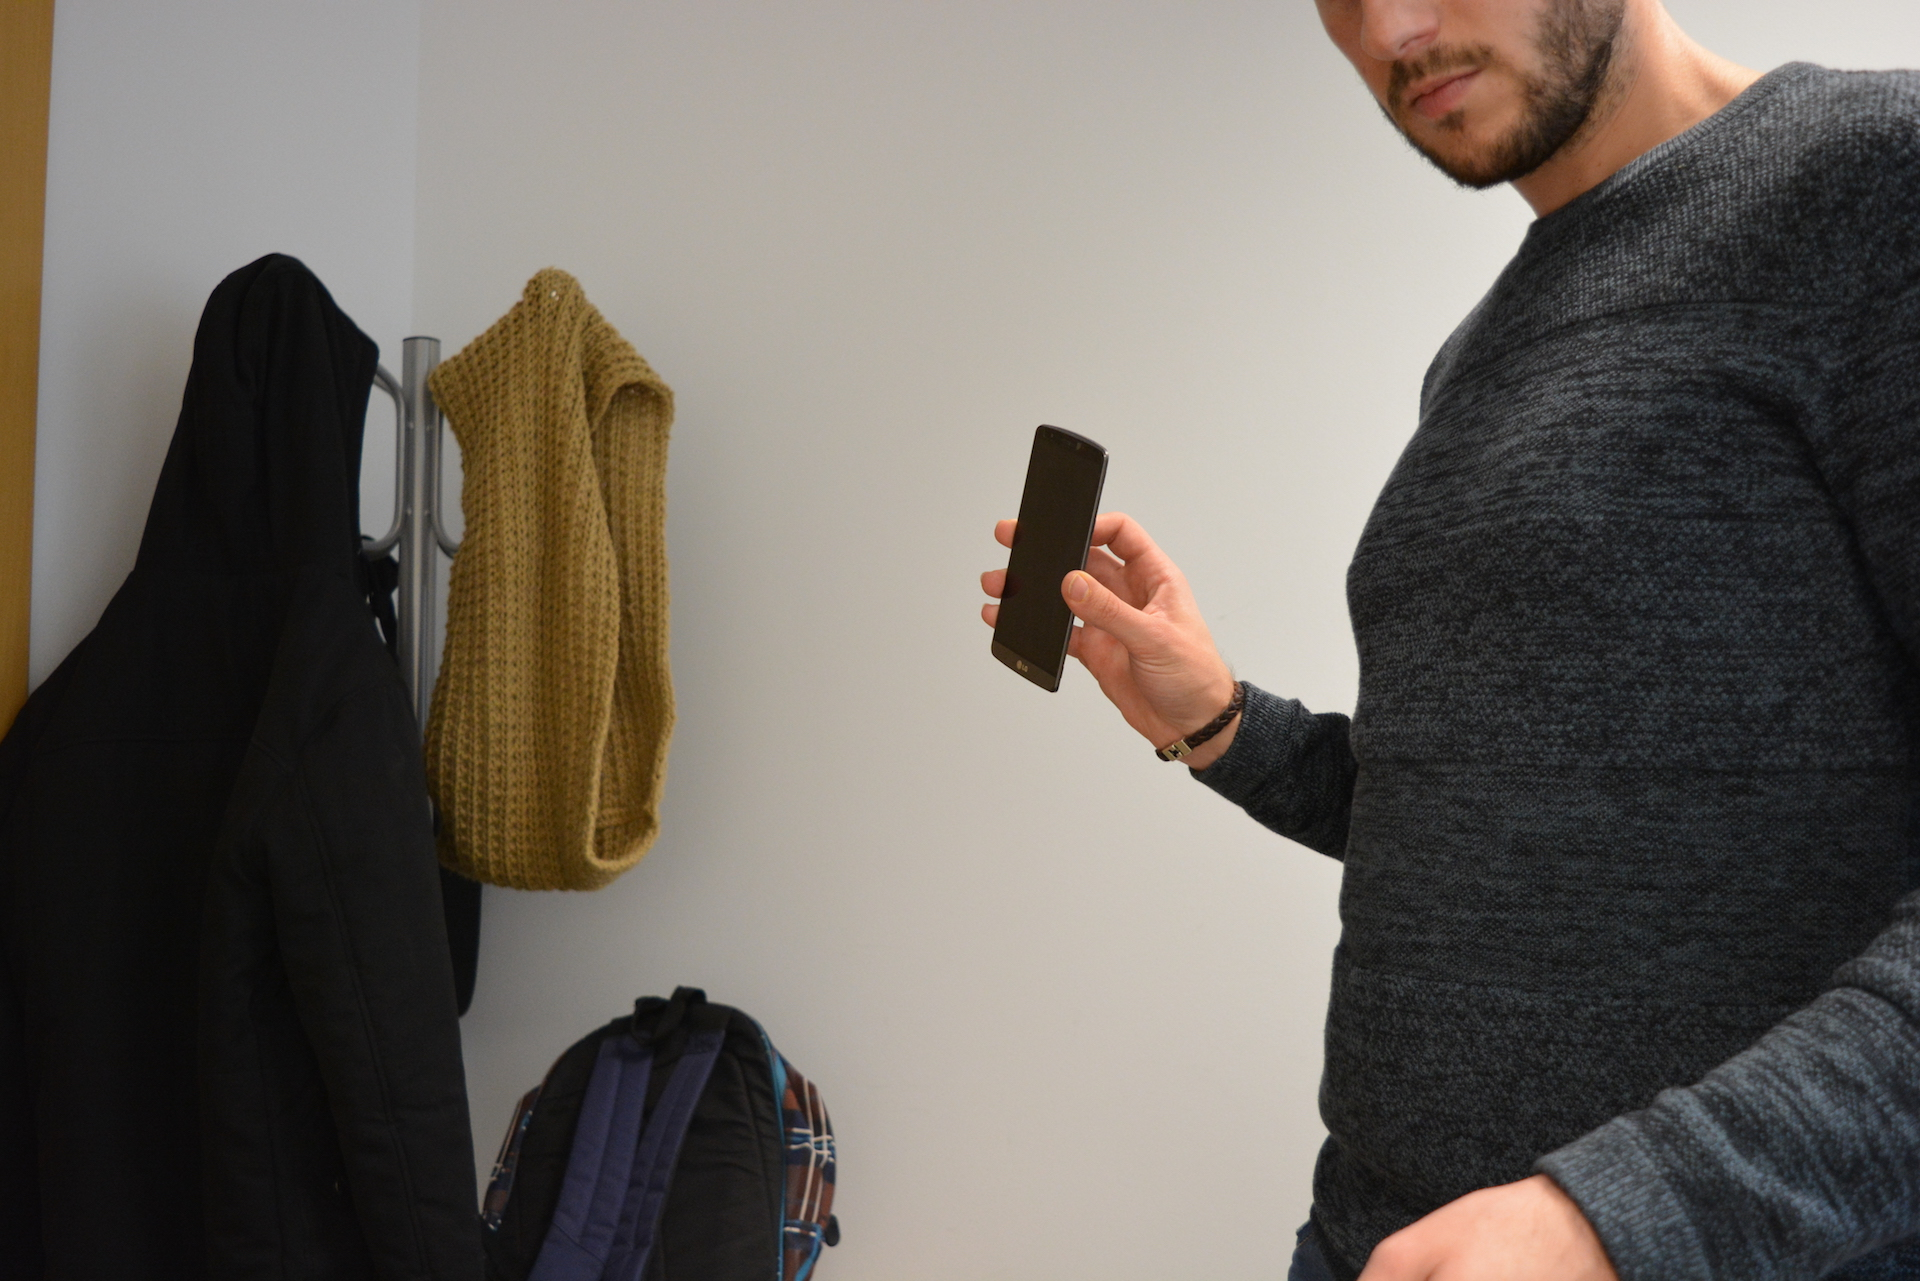smartphone: (989, 423, 1111, 693)
